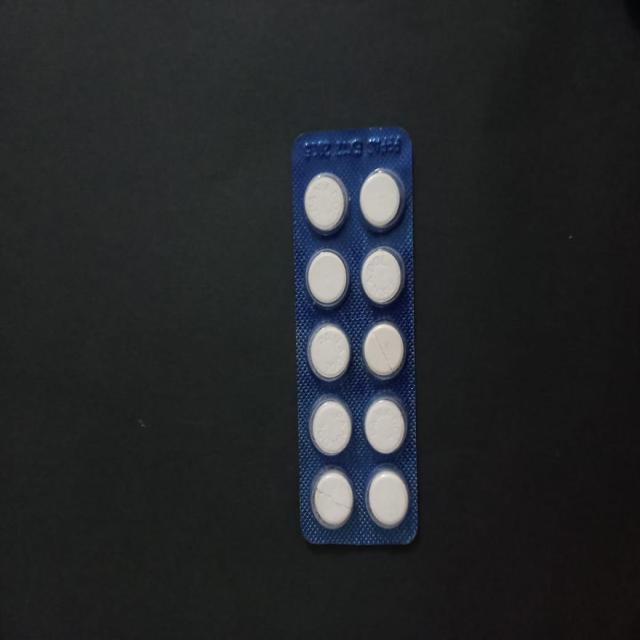defect: (308, 463, 356, 533), (360, 319, 410, 384)
